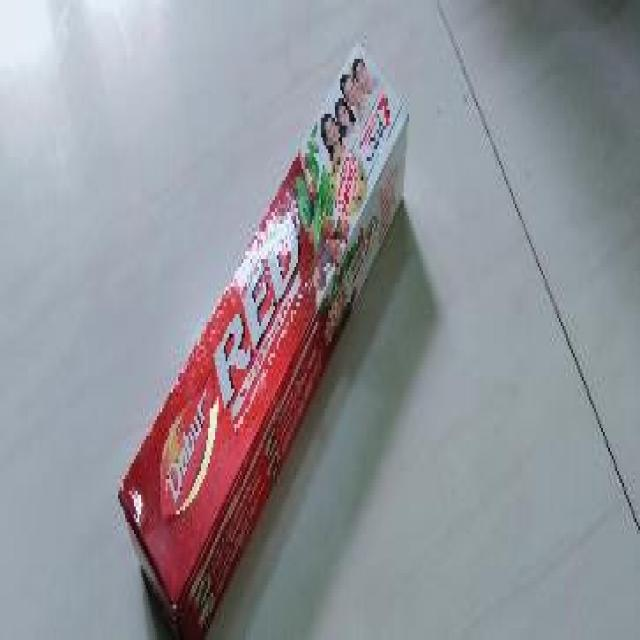tooth paste: (106, 64, 428, 622)
